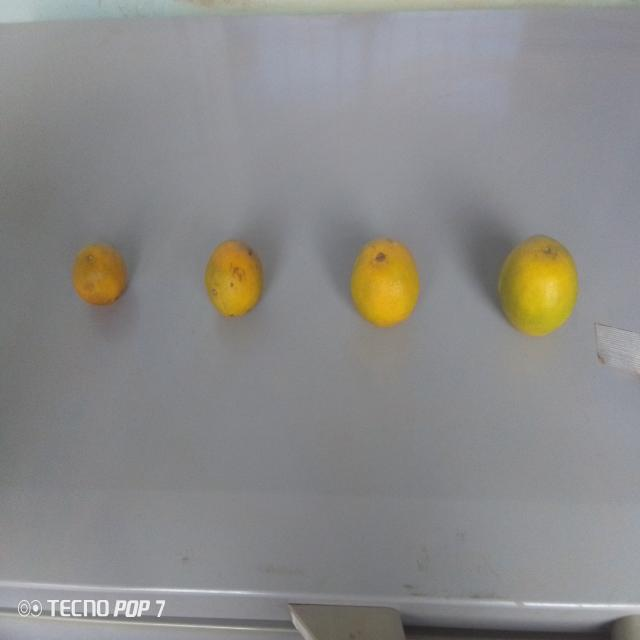Ripe orange: (496, 233, 585, 337), (344, 235, 425, 328), (196, 229, 269, 323), (67, 229, 138, 319)
